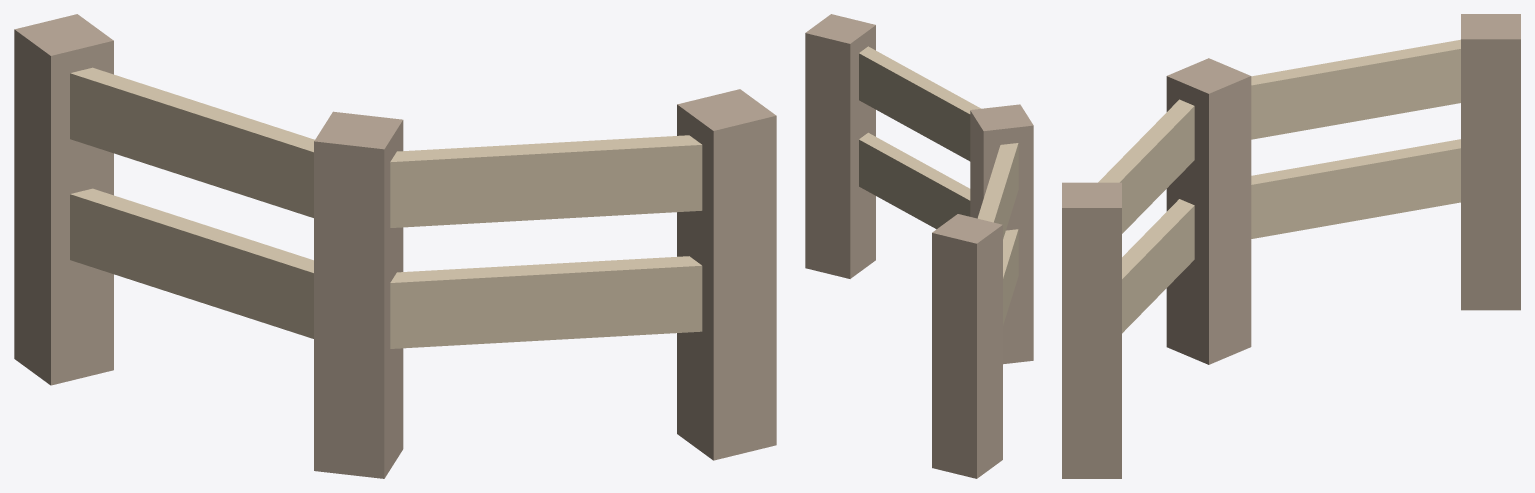
Rendered from Prop_Fence_Curve_1x1.glb.
The picture shows the model from 3 angles, left to right: view 1: azimuth 30°, elevation 25°; view 2: azimuth 150°, elevation 25°; view 3: azimuth 270°, elevation 25°; orthographic projection. The views are drawn at different scales.
Parts seen in each view (by area): view 1: object7, object3, object1, object5, object2, object4, object6; view 2: object1, object7, object3, object5, object2, object4, object6; view 3: object3, object1, object7, object4, object6, object5, object2.
Boxes of the visible parts, x1=… form: object7: x1=677, y1=89, x2=776, y2=460; object3: x1=314, y1=111, x2=403, y2=478; object1: x1=14, y1=14, x2=113, y2=385; object5: x1=390, y1=135, x2=702, y2=227; object2: x1=390, y1=256, x2=702, y2=348; object4: x1=70, y1=67, x2=314, y2=217; object6: x1=70, y1=188, x2=313, y2=338; object1: x1=932, y1=214, x2=1002, y2=478; object7: x1=805, y1=14, x2=875, y2=278; object3: x1=970, y1=104, x2=1033, y2=364; object5: x1=859, y1=46, x2=980, y2=161; object2: x1=859, y1=132, x2=970, y2=229; object4: x1=977, y1=143, x2=1018, y2=238; object6: x1=1003, y1=229, x2=1018, y2=325; object3: x1=1166, y1=58, x2=1251, y2=364; object1: x1=1461, y1=14, x2=1520, y2=310; object7: x1=1062, y1=182, x2=1121, y2=478; object4: x1=1251, y1=39, x2=1460, y2=139; object6: x1=1251, y1=139, x2=1460, y2=238; object5: x1=1098, y1=99, x2=1194, y2=233; object2: x1=1122, y1=199, x2=1194, y2=333.
Size of the model in its own units: 1.15 by 0.7498 by 1.15.
